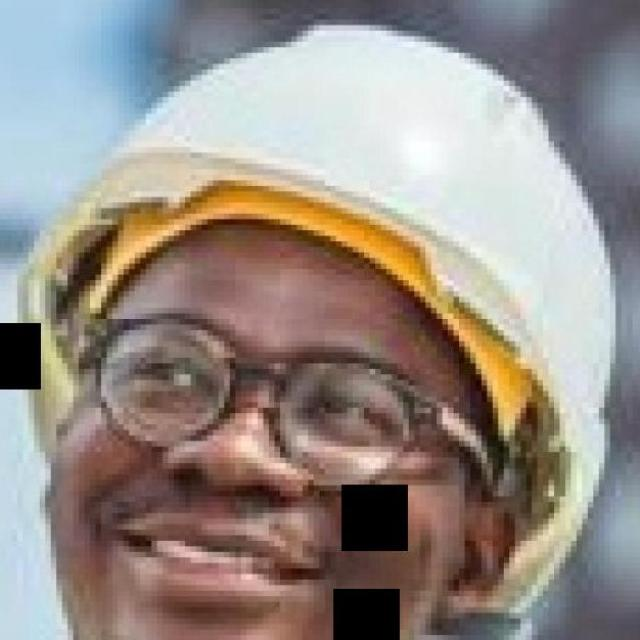white helmet: (26, 24, 616, 549)
